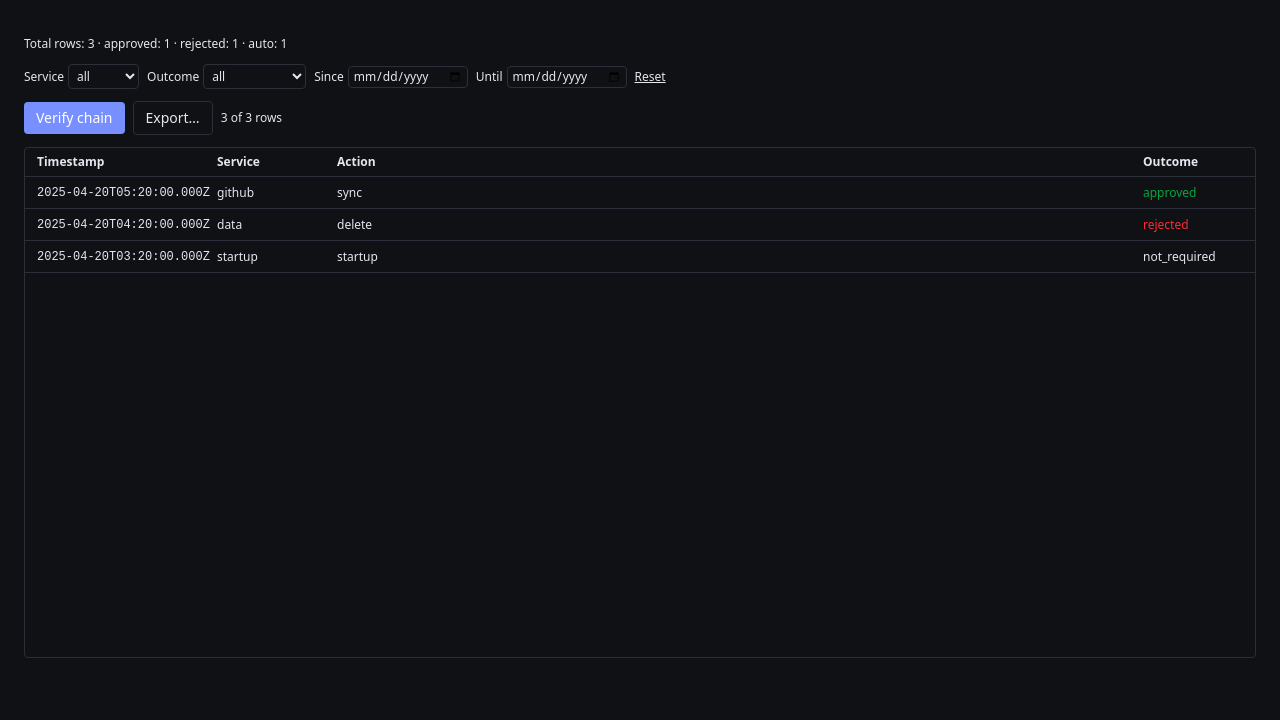
AuditPanel › Verify chain broken surfaces a red toast with the broken id
This screenshot has width=1280, height=720.
Expected: the number of list items with test id "audit-row" is 3, [25,177,1255,209]; [25,209,1255,241]; [25,241,1255,273]
Click the button "Verify chain".
click(74, 118)  # box [24,102,124,134]
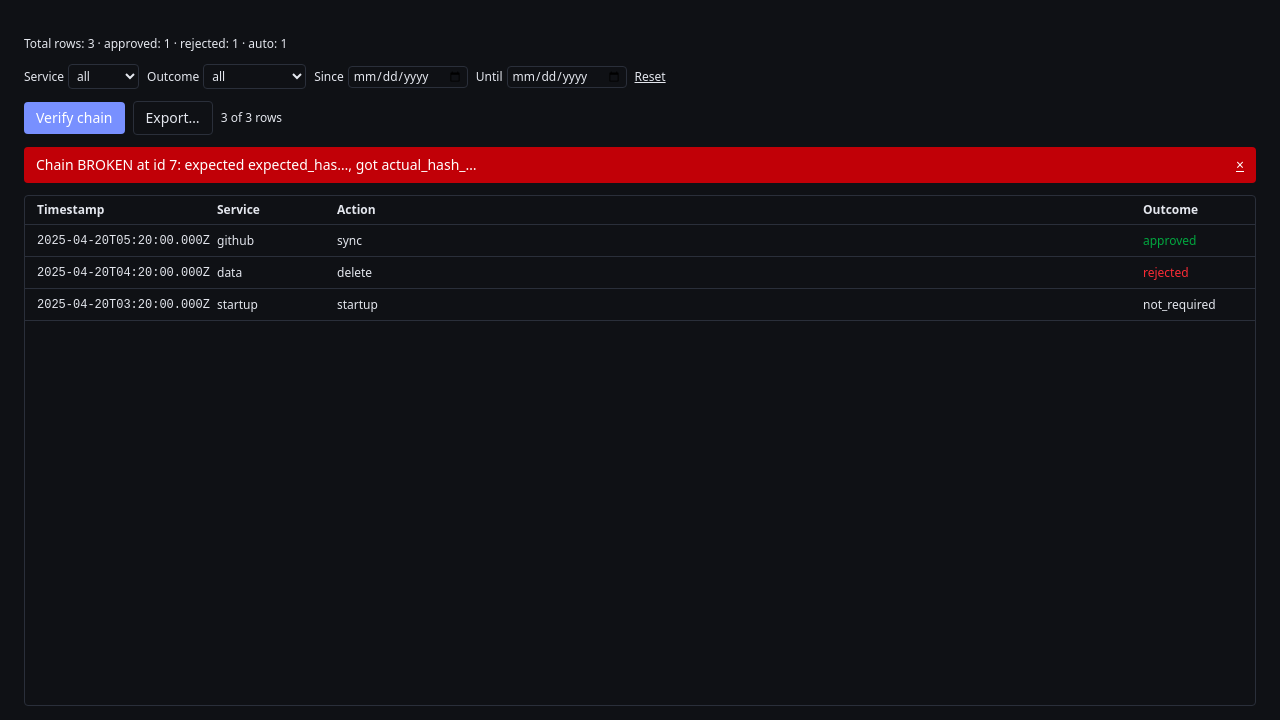
Expected: the text with test id "audit-toast-text" shows "BROKEN at id 7", [36,155,477,174]
